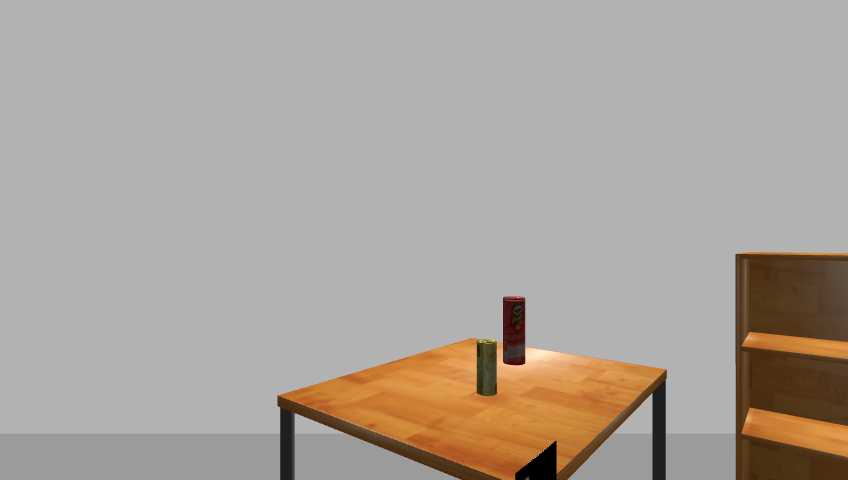aruco marker: (511, 441, 561, 480)
biscuits pack: (474, 339, 498, 397)
bookshelf: (730, 250, 848, 480)
dinner table: (270, 339, 677, 480)
pringles can: (500, 295, 529, 368)
